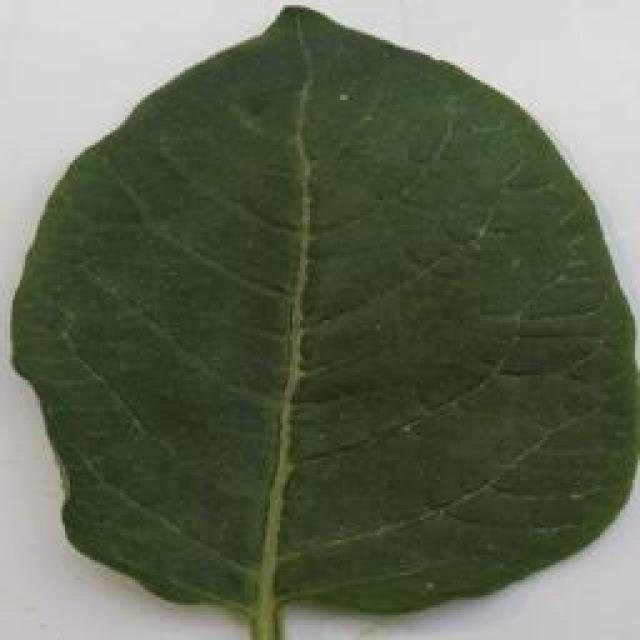Potato_Healthy: (0, 12, 630, 635)
